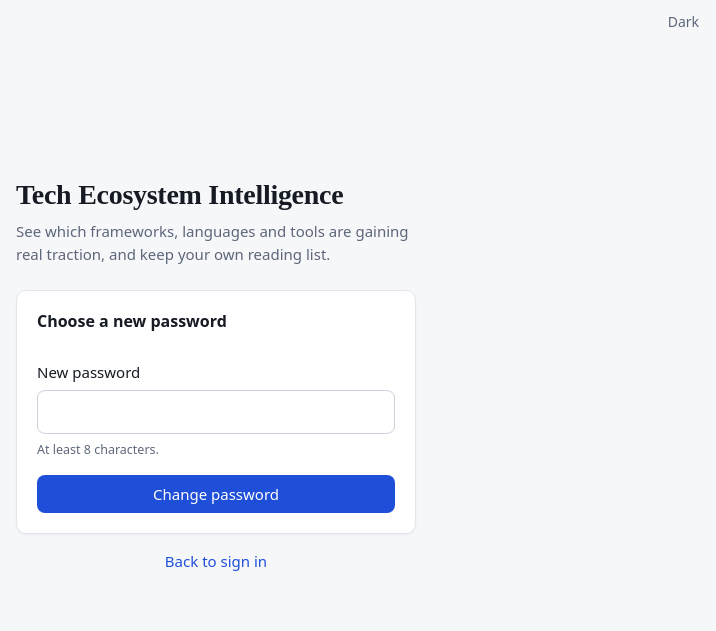
it: password and email pages › reset password shows the server's message for an expired link, and handles a missing token
Type "newpassword1" into the password field labelled "New password At least 8 characters.".
click(216, 412); type("newpassword1")  # box [37,390,395,434]
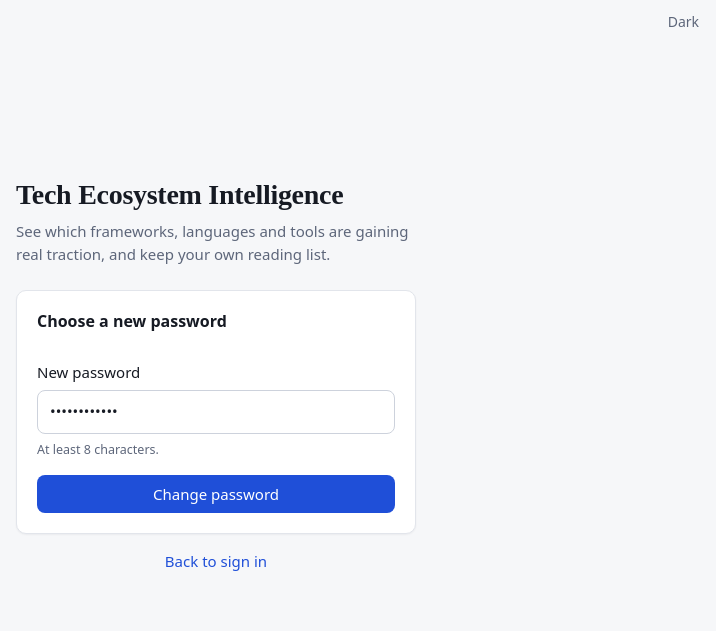
Click the button "Change password".
click(216, 494)  # box [37,475,395,513]
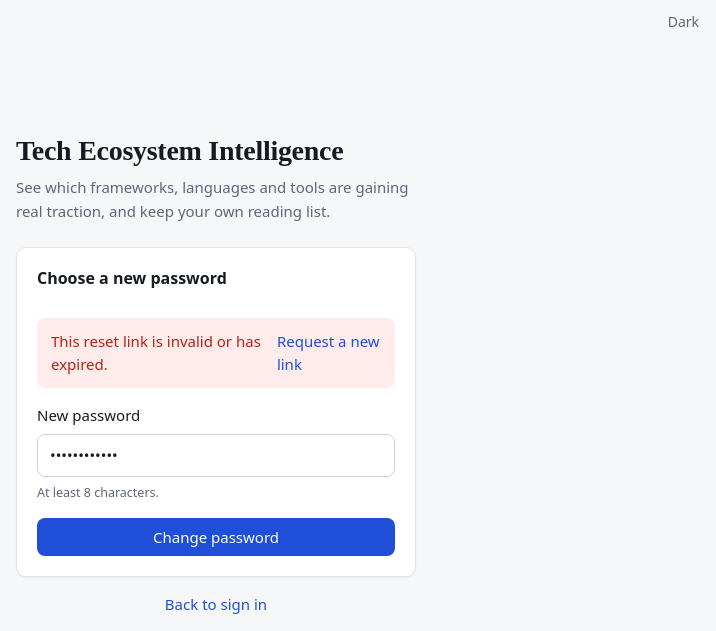
Result: the text "This reset link is invalid or has expired. Request a new link" is shown at [37,318,395,388]
